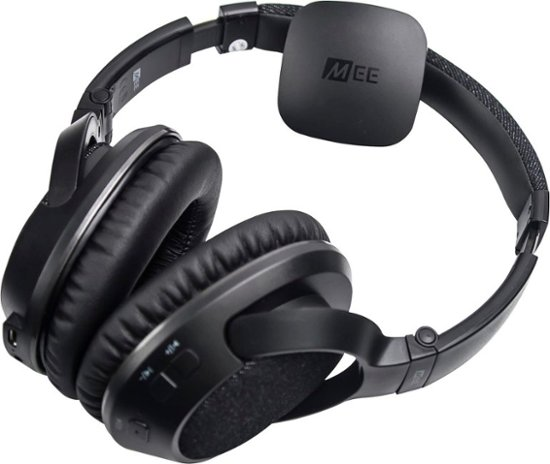Headphone: (2, 1, 550, 459)
